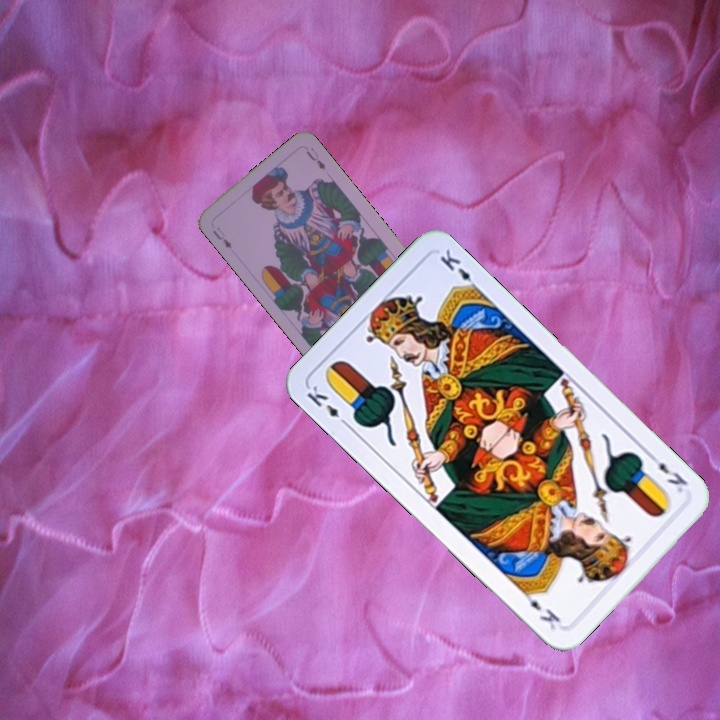EK: (303, 381, 352, 430), (644, 449, 691, 496)
EU: (208, 223, 234, 252)
